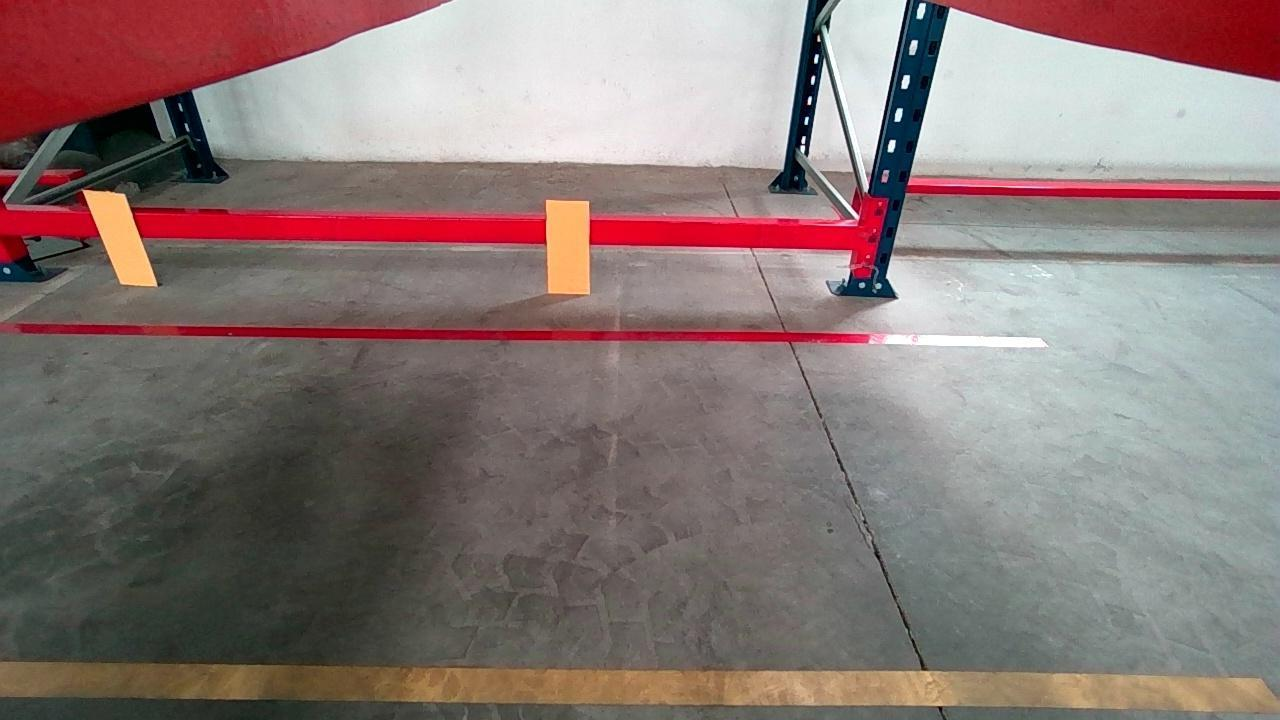h_rack: (0, 208, 881, 245)
orange_strip: (81, 189, 156, 285), (544, 199, 588, 295)
red_line: (2, 320, 1050, 348)
yellow_line: (0, 658, 1280, 709)
